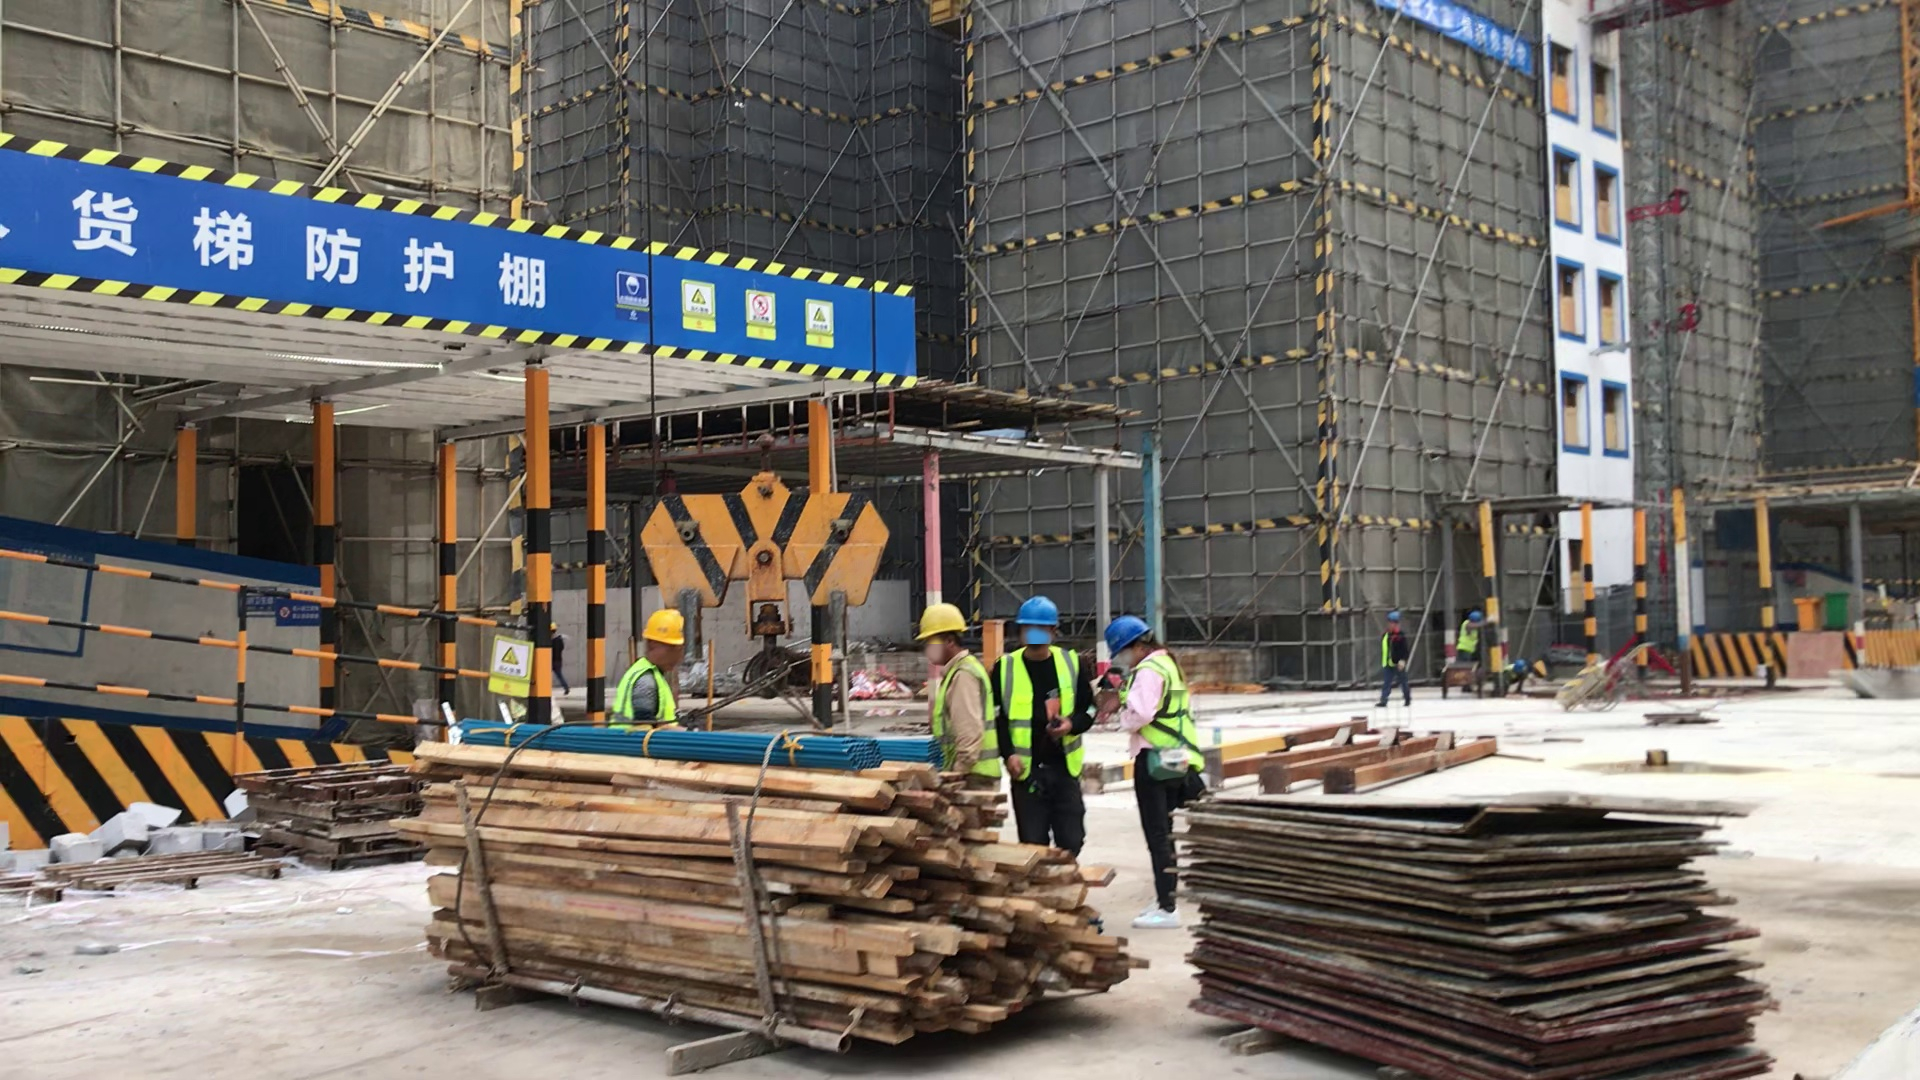helmet: (1100, 613, 1149, 649), (638, 610, 684, 647), (917, 601, 967, 633), (1015, 593, 1061, 627), (1513, 660, 1528, 675), (1385, 610, 1401, 624), (1469, 612, 1483, 623), (550, 623, 560, 631)
person: (1100, 613, 1201, 929), (1003, 594, 1101, 848), (909, 601, 1003, 786), (611, 607, 707, 734), (1377, 609, 1411, 710), (1453, 611, 1483, 665), (1501, 652, 1537, 695), (554, 621, 569, 692)
vest: (1003, 640, 1083, 782), (921, 650, 997, 776), (1130, 644, 1199, 776), (611, 652, 687, 726), (1457, 621, 1478, 655), (1380, 631, 1395, 671)
